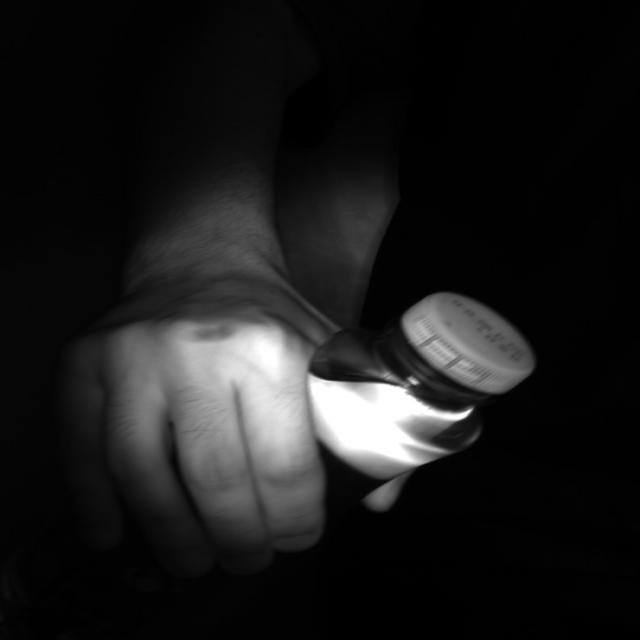Not Good: (382, 294, 534, 402)
